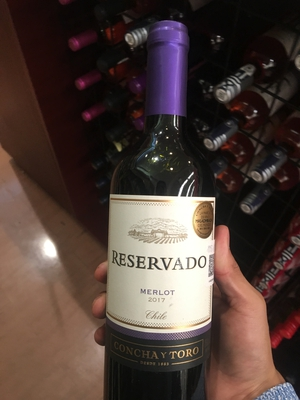reservado merlot: (108, 15, 229, 400)
